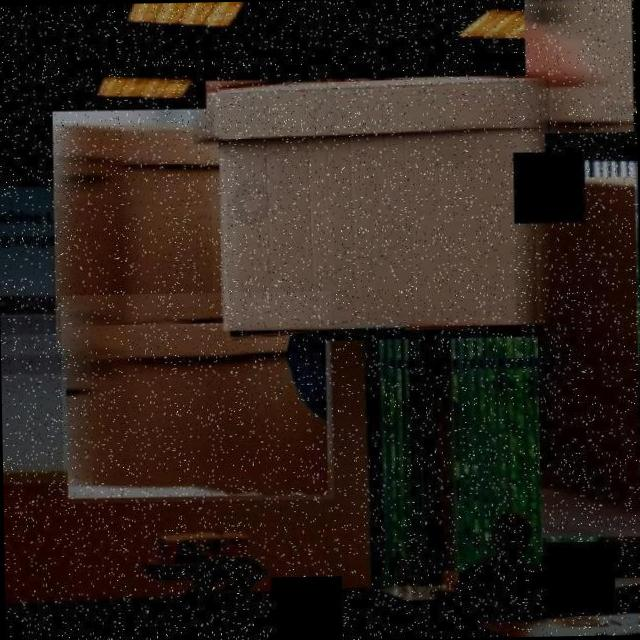box: (201, 71, 554, 347), (60, 290, 334, 503), (51, 105, 214, 353), (534, 171, 640, 543), (523, 0, 635, 136)
